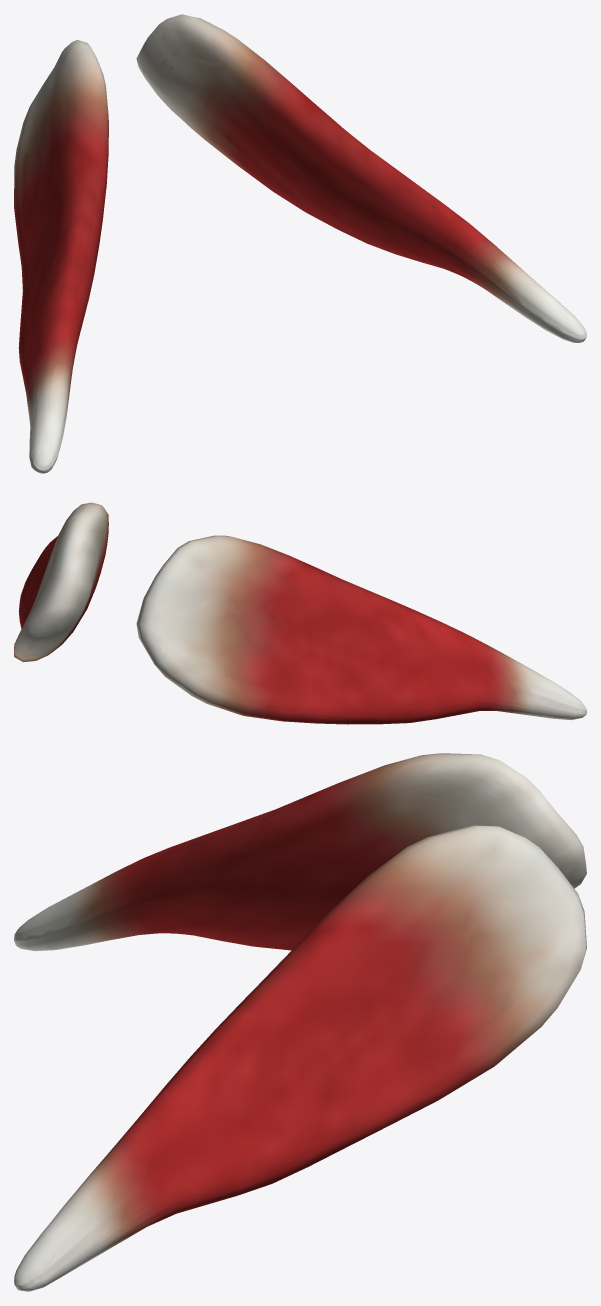
Rendered from Levator Ani.fbx.
The picture shows the model from 3 angles, top to bottom: view 1: azimuth 30°, elevation 25°; view 2: azimuth 150°, elevation 25°; view 3: azimuth 270°, elevation 25°; orthographic projection. The views are drawn at different scales.
Visible parts, largest first — view 1: Levator Ani, Levator Ani low, Levator Ani high; view 2: Levator Ani, Levator Ani low, Levator Ani high; view 3: Levator Ani, Levator Ani low, Levator Ani high.
Boxes of the visible parts, x1,y1,x2,y2 form: Levator Ani: (14, 14, 586, 473); Levator Ani low: (14, 18, 586, 470); Levator Ani high: (17, 22, 584, 471); Levator Ani: (14, 502, 586, 724); Levator Ani low: (14, 503, 586, 724); Levator Ani high: (21, 504, 582, 723); Levator Ani: (14, 753, 586, 1291); Levator Ani low: (16, 754, 585, 1291); Levator Ani high: (14, 754, 578, 1288).
Bounding box in the file's own units: 2.88 × 1.25 × 1.97.
1 material, 1 textured.
